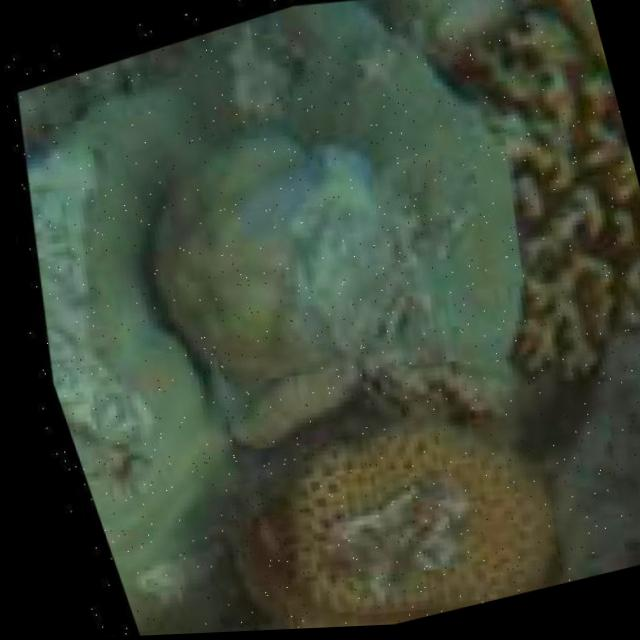Healthy Coral: (378, 0, 640, 446)
